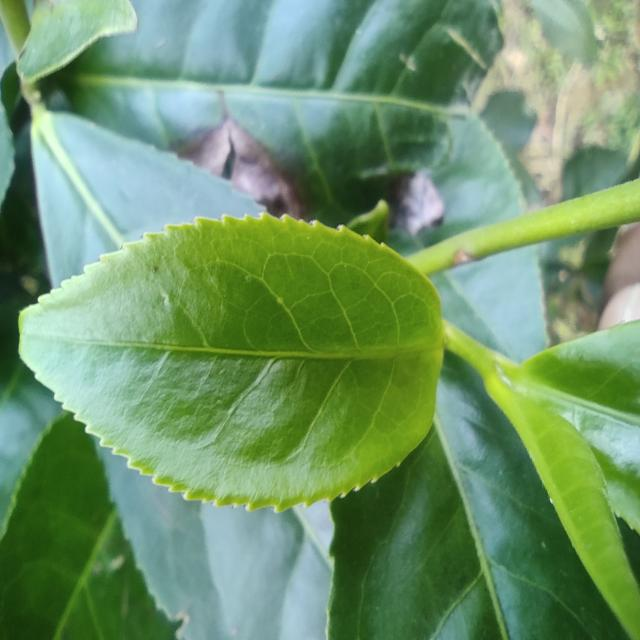Category C(4-7 days): (2, 184, 461, 536)
